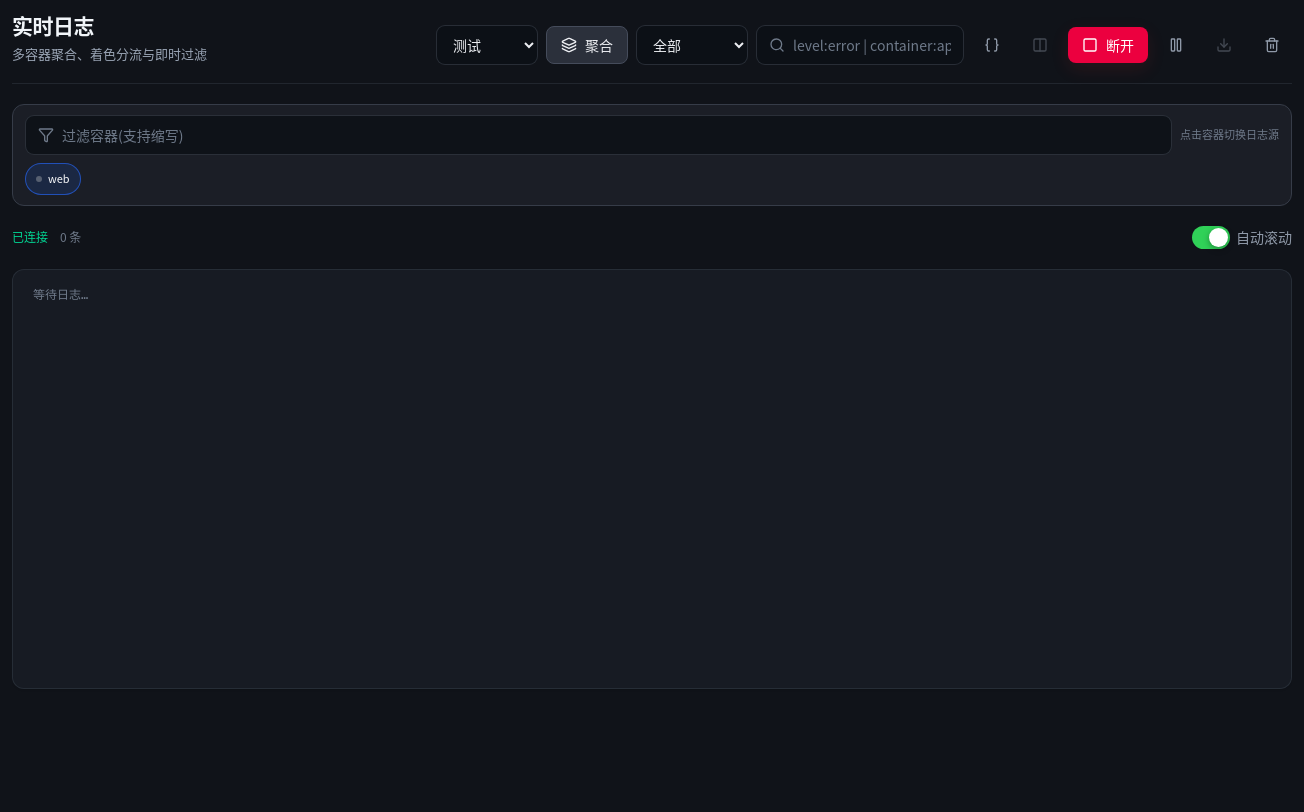
Test: 日志页面生命周期与数据完整性 › 暂停缓存有上限并明确告知被丢弃的日志数量
What coordinates should you click on to do the following:
click the button titled "暂停显示"
I would click on:
 (1176, 45)
Its box is [1156,25,1196,65].
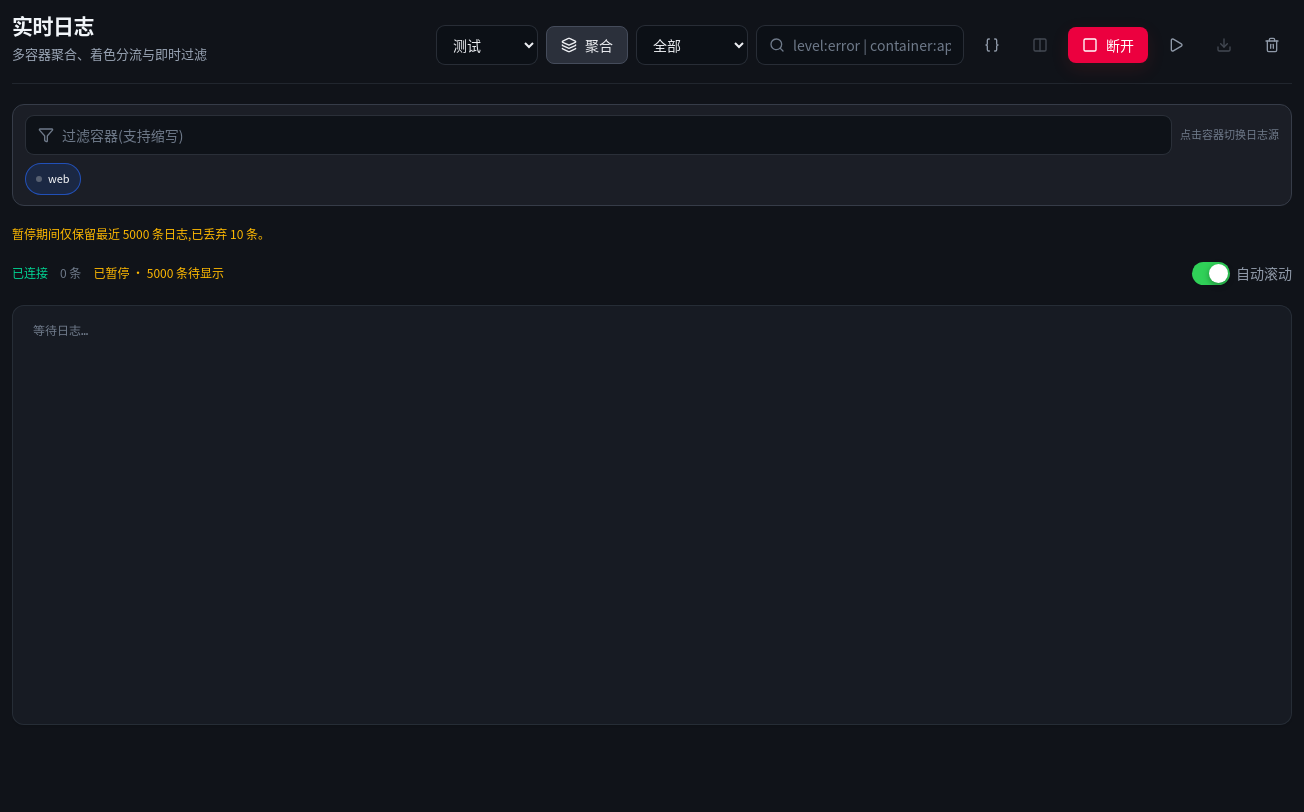
Result: the text "5000 条待显示" is shown at [93,264,224,282]
Result: the text "已丢弃 10 条" is shown at [12,225,270,242]
